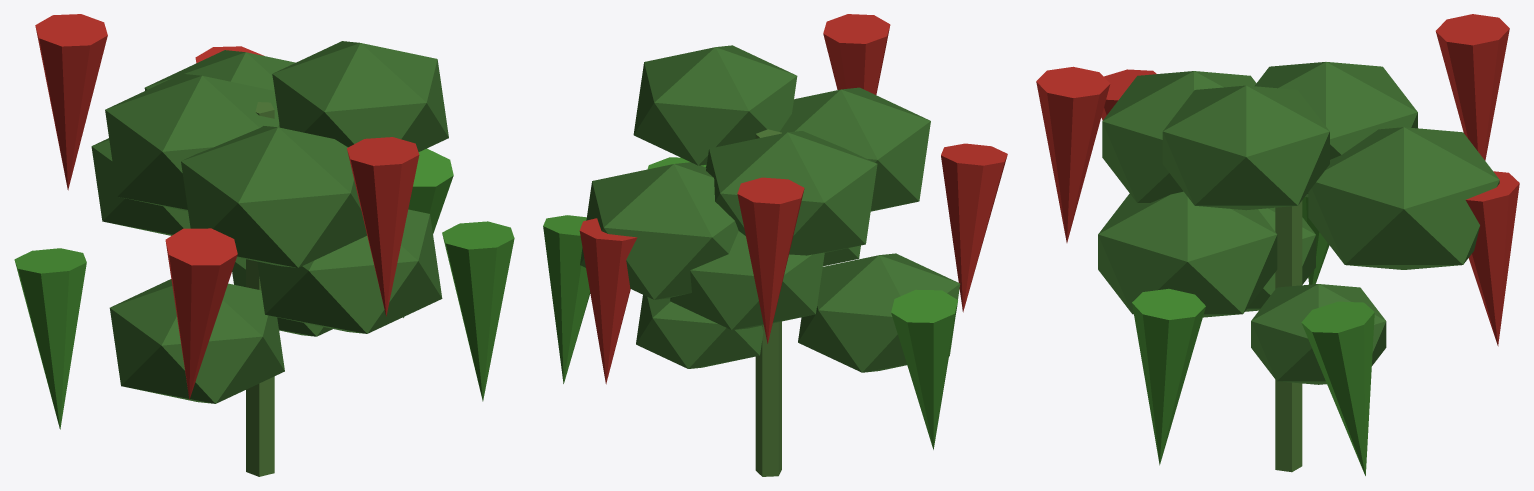
Rendered from ekin_biber.glb.
3 renders of one model, left to right at view 1: azimuth 30°, elevation 25°; view 2: azimuth 150°, elevation 25°; view 3: azimuth 270°, elevation 25°, orthographic. The views are drawn at different scales.
Parts seen in each view (by area): view 1: Cali; view 2: Cali; view 3: Cali.
Part boxes in pixels (box(x1,y1,x2,y2)): Cali: box(14, 14, 514, 476); Cali: box(543, 14, 1007, 476); Cali: box(1036, 14, 1519, 475).
Bounding box in the file's own units: 0.2011 × 0.1866 × 0.1952.
